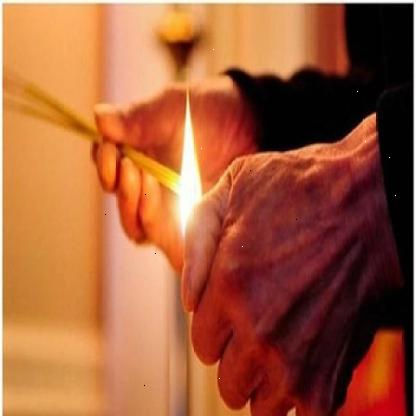fire: (167, 86, 213, 244)
